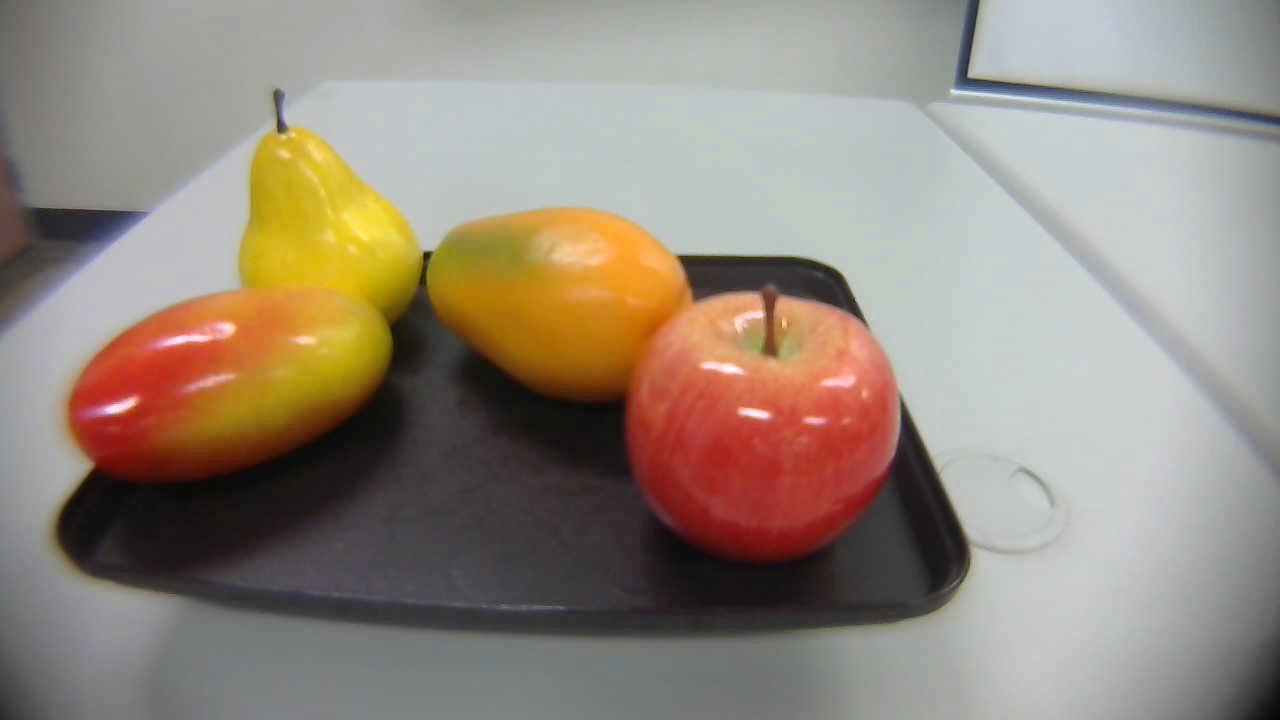papya: (413, 208, 710, 411)
red apple: (622, 279, 912, 578)
red mango: (63, 284, 397, 483)
yellow pear: (215, 84, 437, 334)
